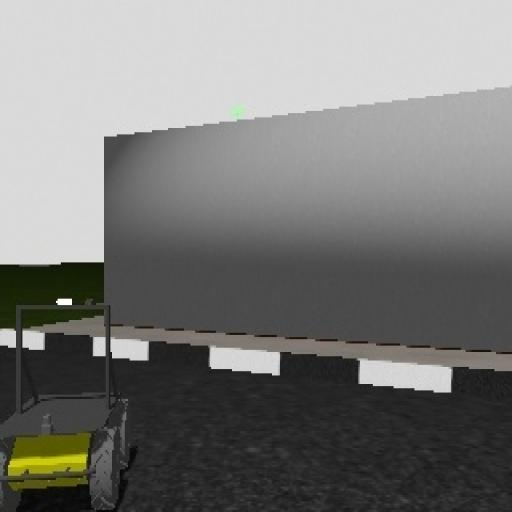huskya200: (0, 262, 128, 512)
